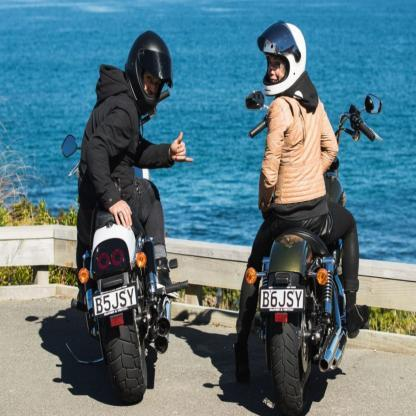helmet: (124, 30, 173, 112), (257, 21, 307, 97)
